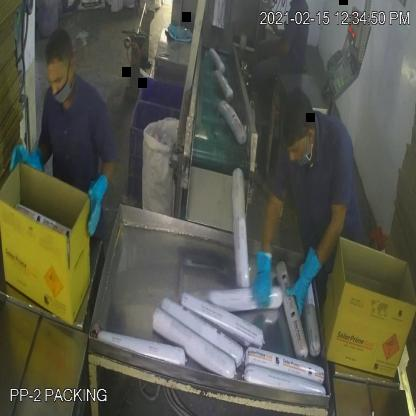glove: (288, 231, 324, 318), (248, 236, 278, 320), (82, 163, 112, 239), (7, 136, 53, 181)
no_glove: (258, 41, 292, 67)
